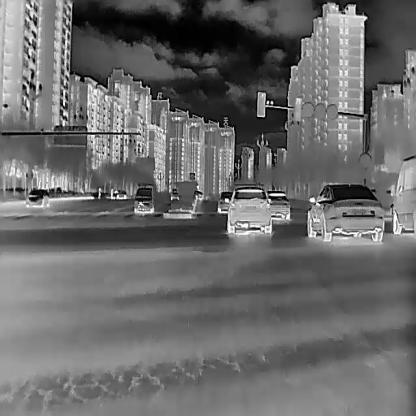car: (304, 180, 384, 242), (386, 151, 416, 235), (226, 186, 272, 234), (265, 188, 291, 219), (132, 186, 154, 214), (26, 187, 50, 208), (216, 190, 235, 212), (112, 188, 126, 200), (169, 187, 178, 199)
